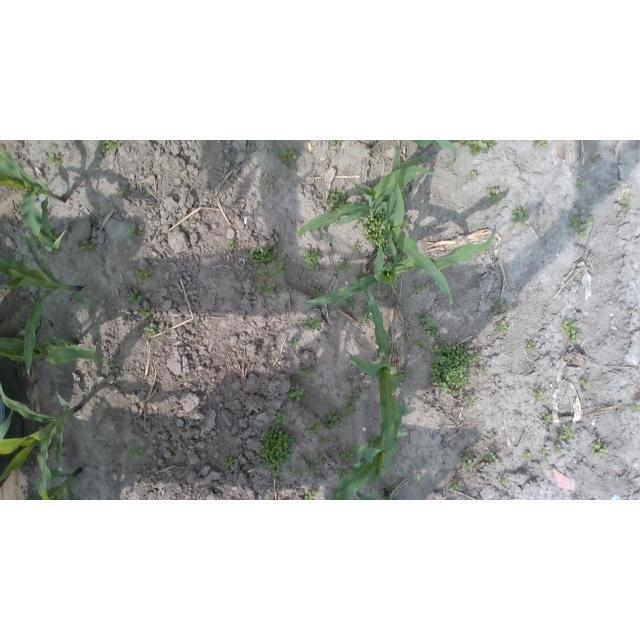Maize: (305, 229, 496, 307), (0, 232, 88, 375), (344, 280, 407, 477), (381, 144, 454, 304), (296, 157, 428, 237), (0, 382, 82, 500), (0, 145, 70, 255), (329, 433, 408, 500), (0, 332, 106, 367), (403, 141, 499, 168), (25, 464, 84, 500), (355, 491, 377, 500)
Weeds: (258, 406, 298, 479), (428, 340, 472, 396), (360, 209, 391, 253), (249, 240, 282, 264), (560, 319, 584, 344), (568, 214, 593, 238), (416, 312, 439, 337), (303, 248, 323, 274), (328, 188, 348, 213), (587, 439, 609, 460), (344, 390, 360, 418), (323, 408, 345, 428), (306, 453, 323, 478), (280, 145, 300, 165), (72, 290, 93, 309), (511, 205, 529, 227), (98, 140, 121, 156), (554, 424, 574, 442), (287, 383, 305, 403), (487, 186, 504, 205), (259, 283, 280, 298), (460, 141, 481, 156), (460, 454, 476, 473), (379, 484, 398, 500), (128, 222, 144, 240), (136, 265, 152, 283), (304, 418, 320, 436), (127, 445, 146, 460), (340, 448, 359, 463), (360, 304, 373, 324), (257, 266, 272, 283), (128, 292, 142, 309), (395, 364, 409, 380), (79, 239, 95, 253), (484, 448, 497, 465), (272, 262, 287, 276), (533, 389, 548, 403), (338, 464, 353, 478), (620, 192, 631, 210), (223, 455, 237, 469), (307, 317, 321, 331), (305, 486, 319, 500), (47, 153, 60, 168), (496, 321, 509, 336), (143, 322, 155, 338), (298, 366, 312, 379), (449, 480, 461, 495), (489, 302, 504, 314), (352, 241, 363, 257), (395, 245, 405, 262), (291, 466, 303, 480), (541, 448, 552, 463), (498, 474, 511, 486), (336, 259, 349, 271), (344, 296, 357, 308), (544, 411, 555, 425), (46, 227, 61, 237), (471, 351, 481, 366), (464, 396, 476, 408), (355, 272, 370, 281), (30, 234, 41, 246), (580, 378, 592, 389), (138, 307, 150, 317), (314, 285, 324, 297), (331, 140, 345, 148), (415, 283, 426, 293), (414, 339, 425, 349), (525, 342, 535, 353), (319, 435, 330, 445), (631, 400, 640, 412), (402, 216, 410, 229), (538, 140, 548, 150), (226, 239, 235, 250), (119, 186, 128, 196), (291, 340, 301, 349), (392, 460, 402, 468), (414, 472, 423, 480), (354, 199, 366, 205), (373, 476, 379, 487), (489, 432, 497, 440), (553, 444, 561, 452), (481, 367, 489, 375), (576, 180, 584, 188), (319, 226, 326, 234), (170, 447, 178, 454), (524, 452, 532, 459), (470, 172, 478, 179), (400, 190, 408, 197), (540, 465, 547, 472), (61, 235, 66, 244), (484, 142, 493, 147), (159, 325, 165, 331), (626, 309, 631, 316), (301, 320, 308, 325), (395, 283, 399, 291), (454, 304, 460, 309), (162, 333, 166, 340), (369, 140, 376, 144), (103, 473, 109, 477), (527, 388, 532, 392), (392, 256, 395, 260)
